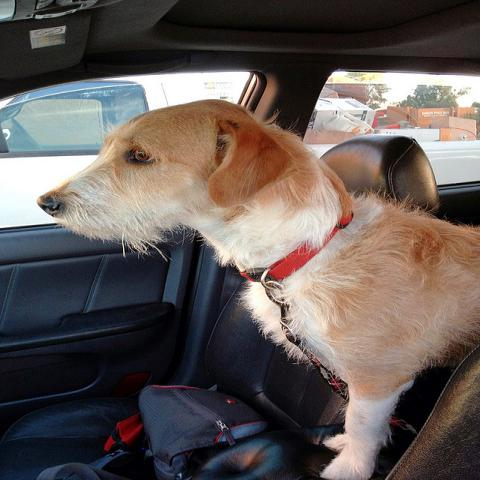car: (0, 72, 255, 228)
truck: (0, 70, 479, 228)
